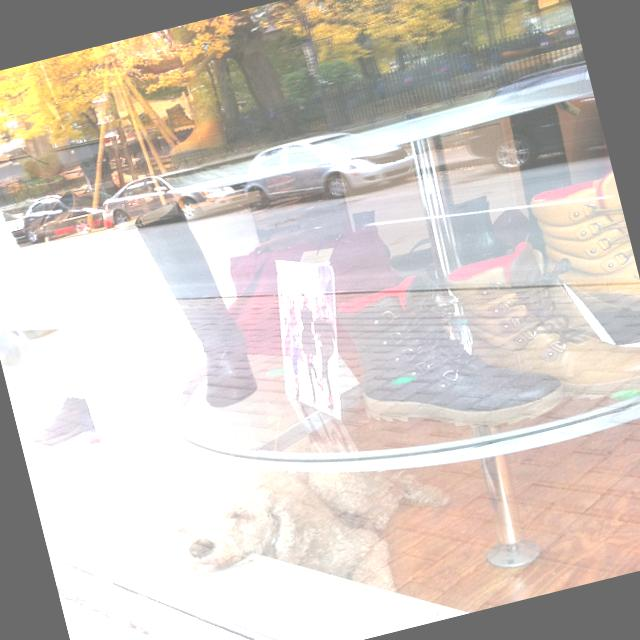Vehicle: (454, 60, 606, 182), (244, 115, 422, 218), (89, 145, 264, 244), (0, 191, 72, 246), (23, 202, 106, 244)
